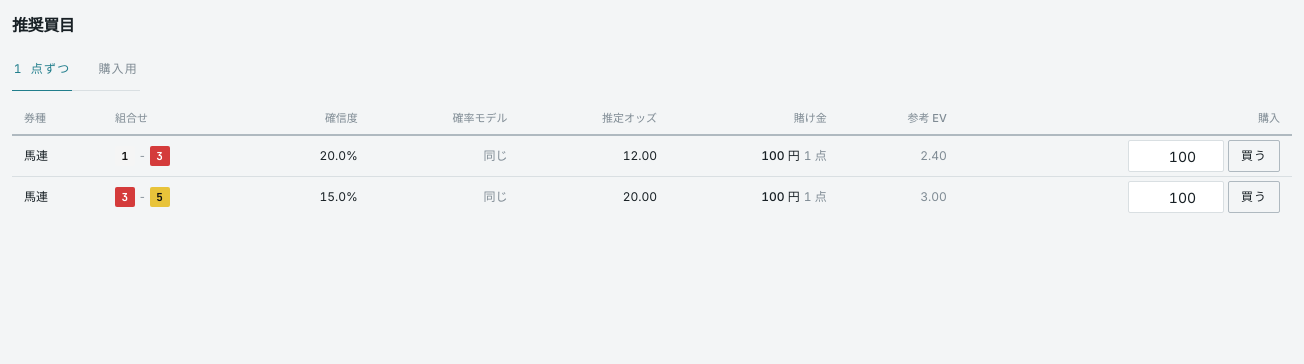
Test: RecommendationsCard › 購入用タブは連系を流し/ボックスにまとめ、開くと 1 点ずつ出す
Click the tab "購入用" at (118, 71), box [96, 52, 140, 90]
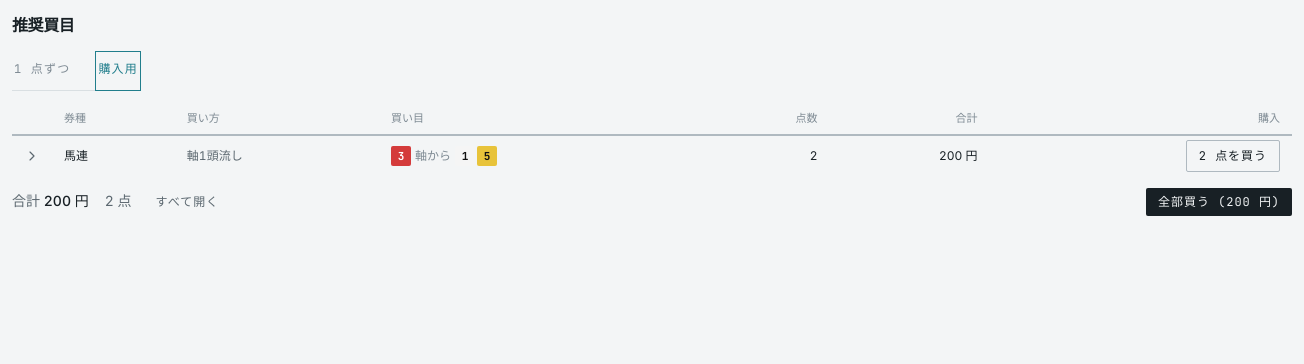
Expected: the text "軸1頭流し" is shown
Expected: the text "軸から" is shown, [415, 147, 451, 165]
Expected: the button "すべて開く" is shown, [148, 188, 227, 216]
Click the text "軸1頭流し" at (215, 156), box [175, 135, 379, 176]
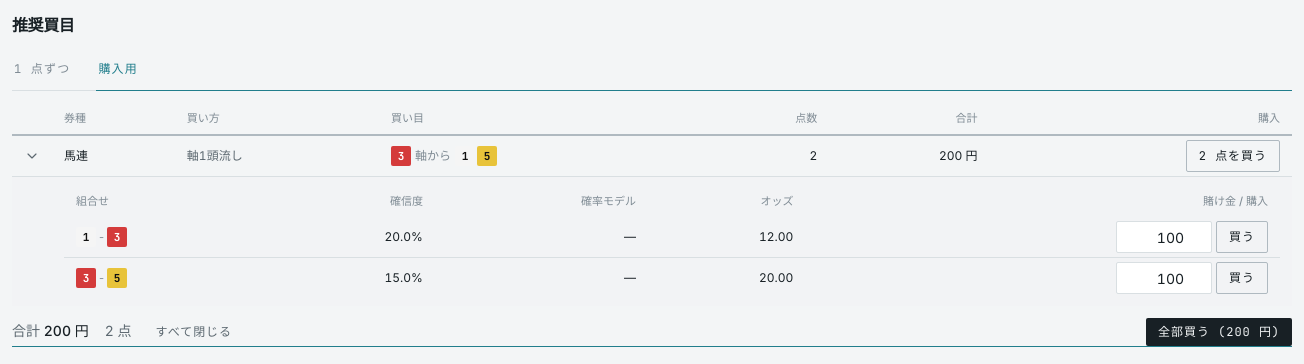
Expected: the number of buttons "買う" is 2, [1216, 221, 1268, 253]; [1216, 262, 1268, 294]
